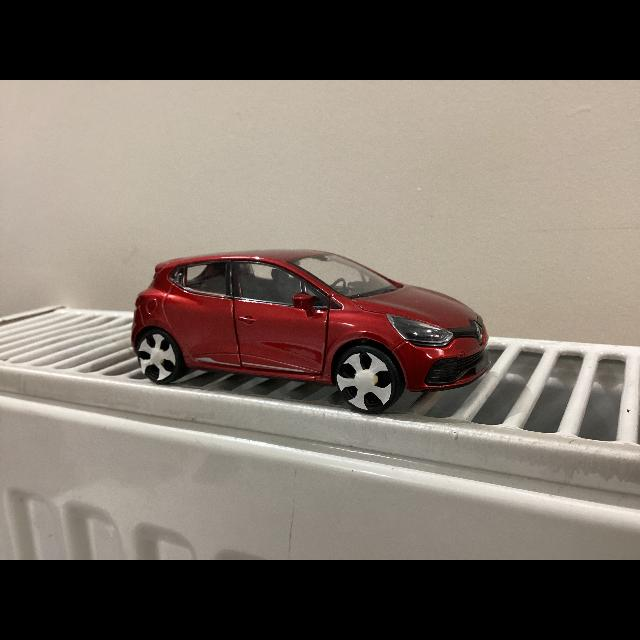Yanlis_Jant: (336, 351, 392, 412), (138, 333, 176, 381)
